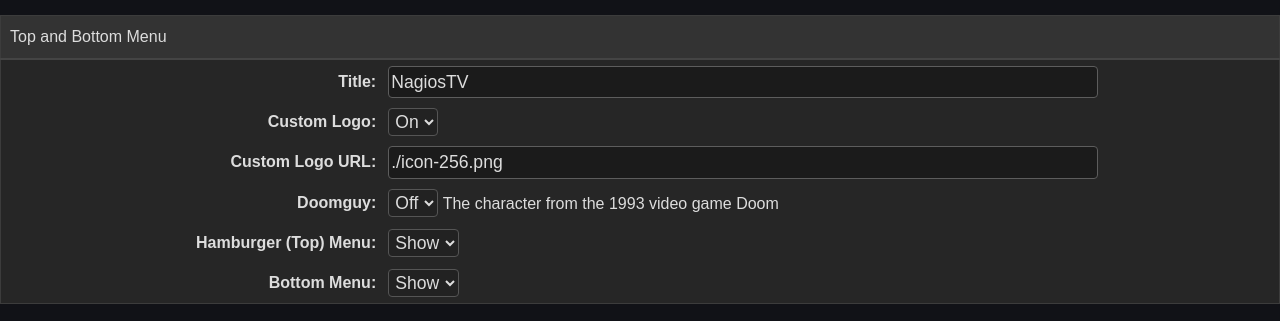
Test case: MenuSettings › shows the custom logo URL only while the logo is enabled
Expected: the field named "Custom Logo URL" holds "./icon-256.png", [388,146,1098,179]
Select "Off" in the dropdown named "Custom Logo" at [413, 122], box [388,108,438,136]
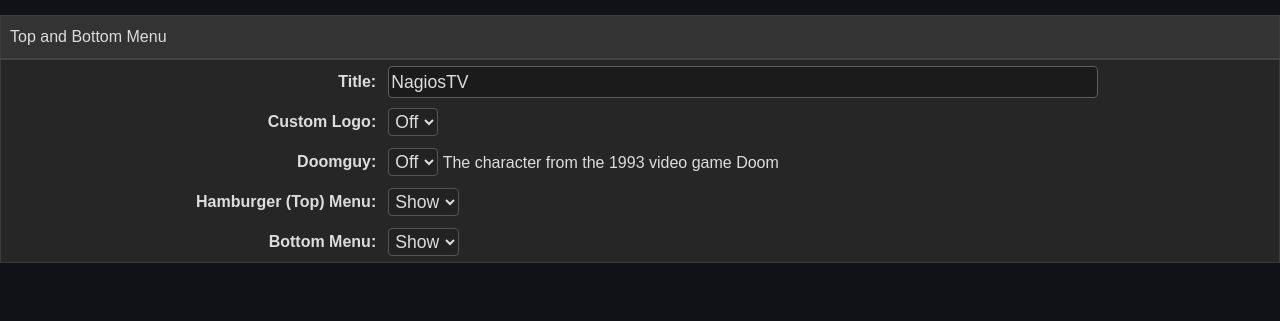
Expected: the column heading "Custom Logo URL" is gone
